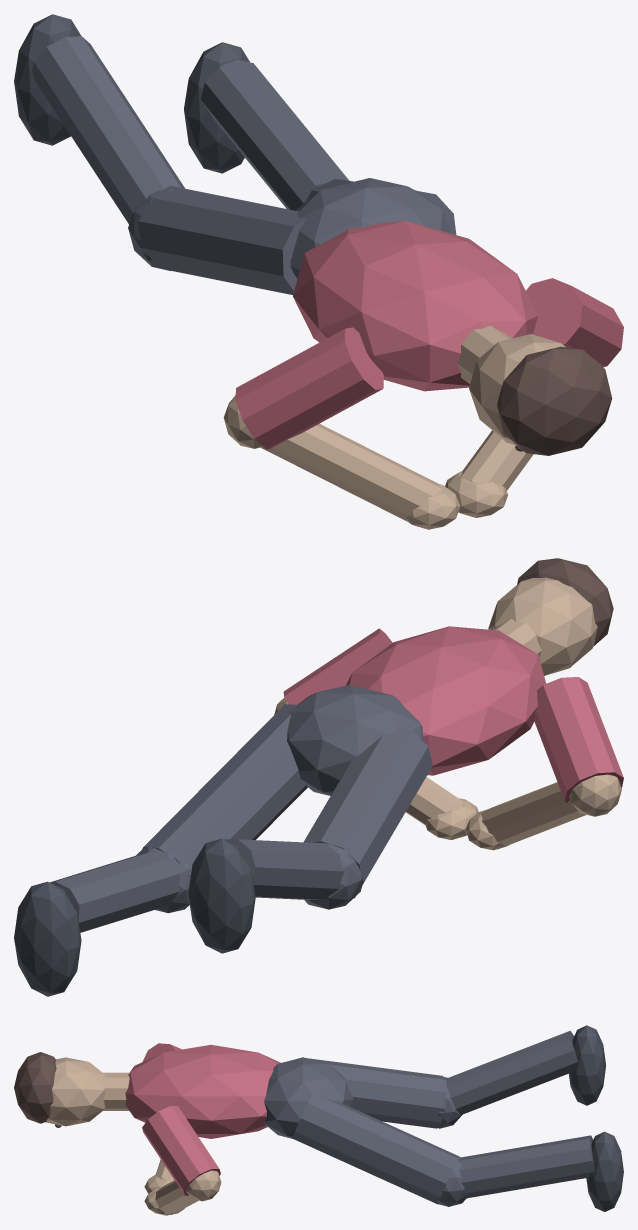
3 renders of one model, top to bottom at view 1: azimuth 30°, elevation 25°; view 2: azimuth 150°, elevation 25°; view 3: azimuth 270°, elevation 25°, orthographic. The views are drawn at different scales.
Visible parts, largest first — view 1: world; view 2: world; view 3: world.
Boxes of the visible parts, box(x1,y1,x2,y2) form: world: box(14, 14, 623, 529); world: box(14, 558, 623, 996); world: box(14, 1025, 623, 1215).
Size of the model in its own units: 0.93 by 0.6103 by 2.06.
